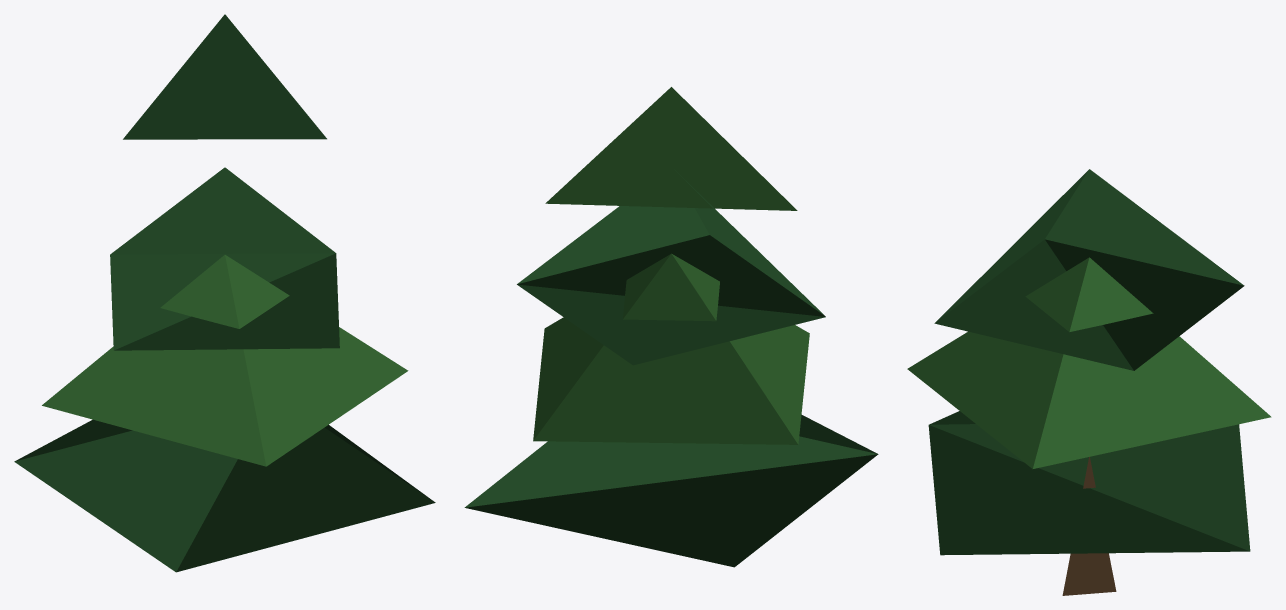
The model's file is tree_pine_1_lod2.glb.
3 views of the same model, side by side, from view 1: azimuth 30°, elevation 25°; view 2: azimuth 150°, elevation 25°; view 3: azimuth 270°, elevation 25° (orthographic).
Visible parts, largest first — view 1: tree_pine_1_lod2; view 2: tree_pine_1_lod2; view 3: tree_pine_1_lod2.
Boxes of the visible parts, x1,y1,x2,y2 form: tree_pine_1_lod2: [14, 14, 435, 572]; tree_pine_1_lod2: [464, 87, 878, 567]; tree_pine_1_lod2: [907, 169, 1271, 595].
Size of the model in its own units: 4.25 by 7.49 by 4.27.
